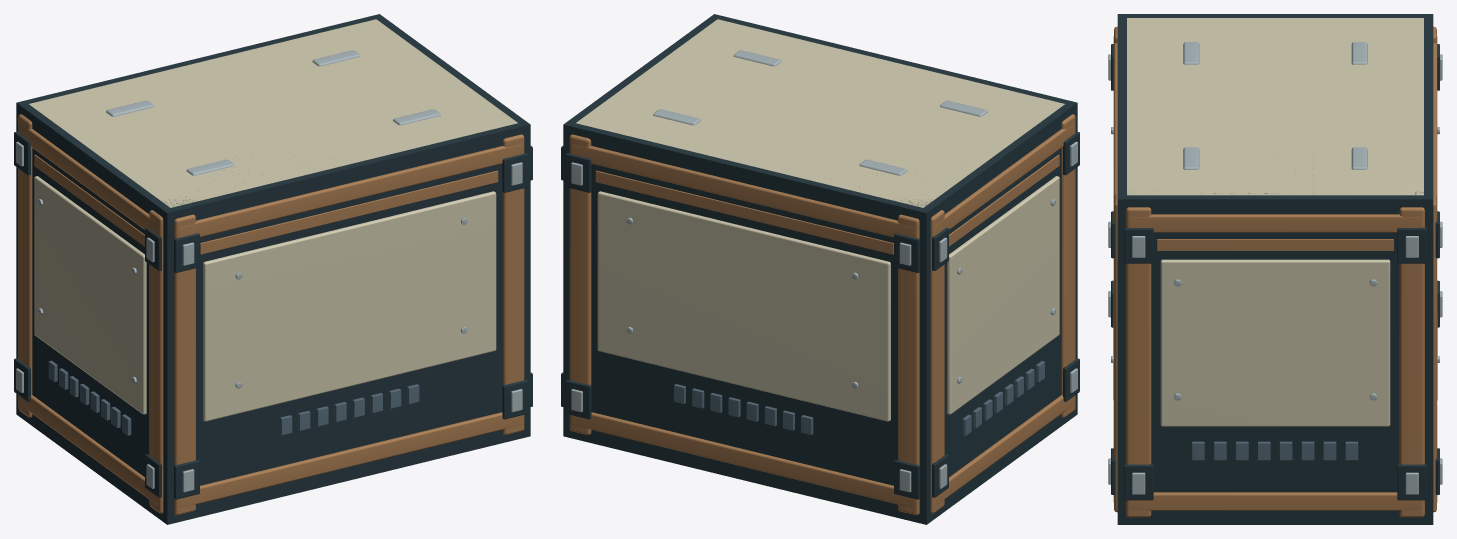
The model's file is caldera-cargo.glb.
3 renders of one model, left to right at view 1: azimuth 30°, elevation 25°; view 2: azimuth 150°, elevation 25°; view 3: azimuth 270°, elevation 25°, orthographic. The views are drawn at different scales.
Parts seen in each view (by area): view 1: OB17 / caldera-cargo; view 2: OB17 / caldera-cargo; view 3: OB17 / caldera-cargo.
Boxes of the visible parts, box(x1,y1,x2,y2) form: OB17 / caldera-cargo: box(14, 14, 532, 524); OB17 / caldera-cargo: box(561, 14, 1079, 524); OB17 / caldera-cargo: box(1108, 14, 1442, 524).
Size of the model in its own units: 2.61 by 2.06 by 1.91.
